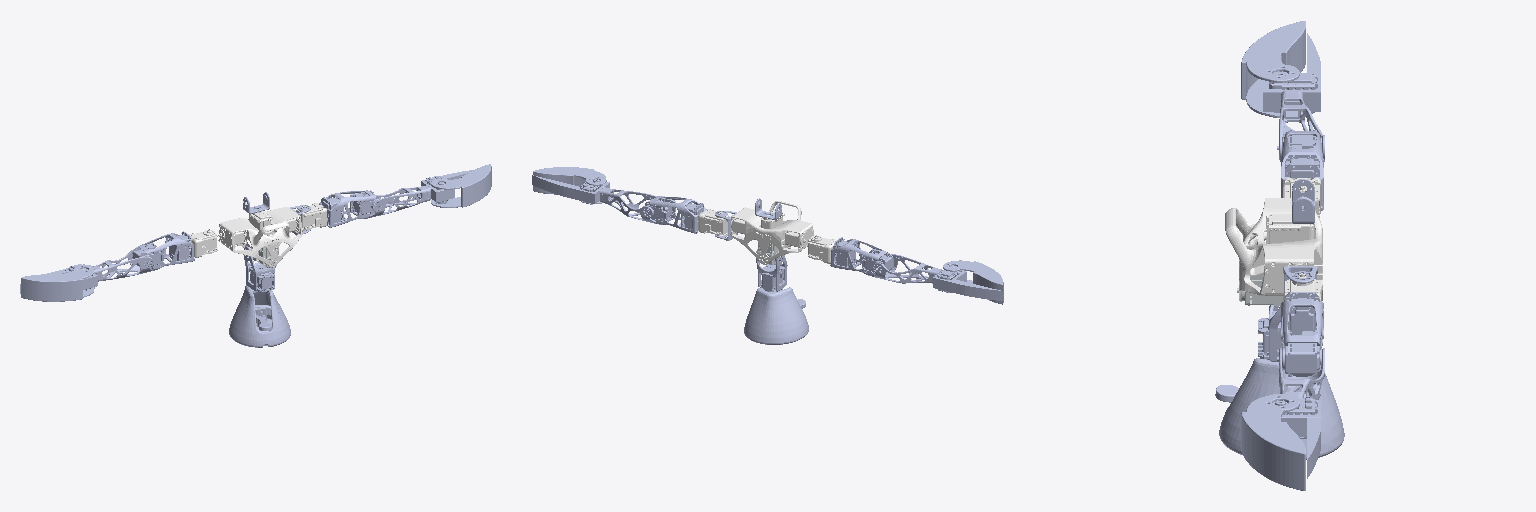
robot.urdf — Poppy_torso_v2:
<robot
  name="Poppy_torso_v2">
  <link
    name="base_link">
    <inertial>
      <origin
        xyz="-0.004153333342564 -0.0118223612045941 -0.069837604514651"
        rpy="0 0 0" />
      <mass
        value="0.319734241188127" />
      <inertia
        ixx="0.000472188921025833"
        ixy="-7.51858863028018E-06"
        ixz="-7.66483860109709E-06"
        iyy="0.000453497282460361"
        iyz="-2.18210648324942E-05"
        izz="0.000518438259894843" />
    </inertial>
    <visual>
      <origin
        xyz="0 0 0"
        rpy="0 0 0" />
      <geometry>
        <mesh
          filename="package://Poppy_torso_v2/meshes/base_link.STL" />
      </geometry>
      <material
        name="">
        <color
          rgba="0.796078431372549 0.823529411764706 0.937254901960784 1" />
      </material>
    </visual>
    <collision>
      <origin
        xyz="0 0 0"
        rpy="0 0 0" />
      <geometry>
        <mesh
          filename="package://Poppy_torso_v2/meshes/base_link.STL" />
      </geometry>
    </collision>
  </link>
  <link
    name="spine">
    <inertial>
      <origin
        xyz="1.33107737011507E-07 -0.00954289245626076 0.0259448296105954"
        rpy="0 0 0" />
      <mass
        value="0.0650979368583488" />
      <inertia
        ixx="3.09227832620665E-05"
        ixy="-2.41559572675692E-10"
        ixz="-1.06973937949386E-09"
        iyy="2.88207988705997E-05"
        iyz="-2.03180935722785E-06"
        izz="2.1564188430525E-05" />
    </inertial>
    <visual>
      <origin
        xyz="0 0 0"
        rpy="0 0 0" />
      <geometry>
        <mesh
          filename="package://Poppy_torso_v2/meshes/spine.STL" />
      </geometry>
      <material
        name="">
        <color
          rgba="0.792156862745098 0.819607843137255 0.933333333333333 1" />
      </material>
    </visual>
    <collision>
      <origin
        xyz="0 0 0"
        rpy="0 0 0" />
      <geometry>
        <mesh
          filename="package://Poppy_torso_v2/meshes/spine.STL" />
      </geometry>
    </collision>
  </link>
  <joint
    name="base_joint_self_defined"
    type="revolute">
    <origin
      xyz="0 0 0"
      rpy="-1.8864E-16 -3.0815E-33 0" />
    <parent
      link="base_link" />
    <child
      link="spine" />
    <axis
      xyz="0 0 1" />
    <limit
      effort="0"
      velocity="0" />
  </joint>
  <link
    name="chest_side">
    <inertial>
      <origin
        xyz="-0.0147496860009198 -0.00970735598527694 -0.000137030837537916"
        rpy="0 0 0" />
      <mass
        value="0.11037279418612" />
      <inertia
        ixx="3.01349430766385E-05"
        ixy="-2.77912007436759E-06"
        ixz="2.2308660633411E-07"
        iyy="6.43364191610779E-05"
        iyz="-6.5673389514138E-08"
        izz="7.03000768716146E-05" />
    </inertial>
    <visual>
      <origin
        xyz="0 0 0"
        rpy="0 0 0" />
      <geometry>
        <mesh
          filename="package://Poppy_torso_v2/meshes/chest_side.STL" />
      </geometry>
      <material
        name="">
        <color
          rgba="0.890196078431373 0.913725490196078 0.929411764705882 1" />
      </material>
    </visual>
    <collision>
      <origin
        xyz="0 0 0"
        rpy="0 0 0" />
      <geometry>
        <mesh
          filename="package://Poppy_torso_v2/meshes/chest_side.STL" />
      </geometry>
    </collision>
  </link>
  <joint
    name="chest_side_joint"
    type="revolute">
    <origin
      xyz="0 0.00280000000000003 0.0745"
      rpy="-1.5707963267949 -1.88644366411706E-16 1.5707963267949" />
    <parent
      link="spine" />
    <child
      link="chest_side" />
    <axis
      xyz="0 0 1" />
  </joint>
  <link
    name="chest_front">
    <inertial>
      <origin
        xyz="0.0516284389564188 -1.56640966283007E-06 -0.0120687564654546"
        rpy="0 0 0" />
      <mass
        value="0.212413185651431" />
      <inertia
        ixx="0.000548350920248017"
        ixy="2.65400855333155E-08"
        ixz="-1.76102337332438E-06"
        iyy="0.000152789180532853"
        iyz="-2.66047588298665E-08"
        izz="0.000486323401788313" />
    </inertial>
    <visual>
      <origin
        xyz="0 0 0"
        rpy="0 0 0" />
      <geometry>
        <mesh
          filename="package://Poppy_torso_v2/meshes/chest_front.STL" />
      </geometry>
      <material
        name="">
        <color
          rgba="1 1 1 0.32" />
      </material>
    </visual>
    <collision>
      <origin
        xyz="0 0 0"
        rpy="0 0 0" />
      <geometry>
        <mesh
          filename="package://Poppy_torso_v2/meshes/chest_front.STL" />
      </geometry>
    </collision>
  </link>
  <joint
    name="chest_front_joint"
    type="revolute">
    <origin
      xyz="0 0 0"
      rpy="-1.5708 2.7756E-16 -1.5708" />
    <parent
      link="chest_side" />
    <child
      link="chest_front" />
    <axis
      xyz="0 0 1" />
    <limit
      effort="0"
      velocity="0" />
  </joint>
  <link
    name="left_shoulder">
    <inertial>
      <origin
        xyz="-0.00915941514906743 -0.00181696224583762 0.00905845964868317"
        rpy="0 0 0" />
      <mass
        value="0.00964530467137537" />
      <inertia
        ixx="2.10531319593993E-06"
        ixy="1.1061564236355E-08"
        ixz="-3.39450830845507E-08"
        iyy="4.0655689552971E-06"
        iyz="-5.44235701960333E-08"
        izz="3.88159030402693E-06" />
    </inertial>
    <visual>
      <origin
        xyz="0 0 0"
        rpy="0 0 0" />
      <geometry>
        <mesh
          filename="package://Poppy_torso_v2/meshes/left_shoulder.STL" />
      </geometry>
      <material
        name="">
        <color
          rgba="0.796078431372549 0.823529411764706 0.937254901960784 1" />
      </material>
    </visual>
    <collision>
      <origin
        xyz="0 0 0"
        rpy="0 0 0" />
      <geometry>
        <mesh
          filename="package://Poppy_torso_v2/meshes/left_shoulder.STL" />
      </geometry>
    </collision>
  </link>
  <joint
    name="left_shoulder_joint"
    type="revolute">
    <origin
      xyz="0.0499999999999999 -0.0785 0.00400000000000005"
      rpy="1.5707963267949 4.92661467177413E-16 -2.77555756156289E-16" />
    <parent
      link="chest_front" />
    <child
      link="left_shoulder" />
    <axis
      xyz="0 0 1" />
  </joint>
  <link
    name="left_shoulder2">
    <inertial>
      <origin
        xyz="-5.12916590637846E-07 0.013997092641807 -0.00901440721895366"
        rpy="0 0 0" />
      <mass
        value="0.0560816261526276" />
      <inertia
        ixx="2.00926661196522E-05"
        ixy="1.56156233552396E-10"
        ixz="-1.15054193426659E-09"
        iyy="1.15236600129741E-05"
        iyz="3.10765359223317E-07"
        izz="1.69300488718864E-05" />
    </inertial>
    <visual>
      <origin
        xyz="0 0 0"
        rpy="0 0 0" />
      <geometry>
        <mesh
          filename="package://Poppy_torso_v2/meshes/left_shoulder2.STL" />
      </geometry>
      <material
        name="">
        <color
          rgba="1 1 1 0.32" />
      </material>
    </visual>
    <collision>
      <origin
        xyz="0 0 0"
        rpy="0 0 0" />
      <geometry>
        <mesh
          filename="package://Poppy_torso_v2/meshes/left_shoulder2.STL" />
      </geometry>
    </collision>
  </link>
  <joint
    name="left_shoulder2_joint"
    type="revolute">
    <origin
      xyz="0 0 0.027"
      rpy="1.5707963267949 -1.66533453693773E-16 1.5707963267949" />
    <parent
      link="left_shoulder" />
    <child
      link="left_shoulder2" />
    <axis
      xyz="0 0 1" />
  </joint>
  <link
    name="left_elbow">
    <inertial>
      <origin
        xyz="0.000134407661343705 -0.010734205757447 0.0580980424897709"
        rpy="0 0 0" />
      <mass
        value="0.112675711717156" />
      <inertia
        ixx="0.000184799927868789"
        ixy="-1.14534033979223E-08"
        ixz="-5.18008257730134E-07"
        iyy="0.000181143017641689"
        iyz="-2.68067658529517E-06"
        izz="3.1435947185032E-05" />
    </inertial>
    <visual>
      <origin
        xyz="0 0 0"
        rpy="0 0 0" />
      <geometry>
        <mesh
          filename="package://Poppy_torso_v2/meshes/left_elbow.STL" />
      </geometry>
      <material
        name="">
        <color
          rgba="0.792156862745098 0.819607843137255 0.933333333333333 1" />
      </material>
    </visual>
    <collision>
      <origin
        xyz="0 0 0"
        rpy="0 0 0" />
      <geometry>
        <mesh
          filename="package://Poppy_torso_v2/meshes/left_elbow.STL" />
      </geometry>
    </collision>
  </link>
  <joint
    name="left_elbow_joint"
    type="revolute">
    <origin
      xyz="0 0.0426 -0.0185"
      rpy="-1.5707963267949 -2.25514051876985E-16 0" />
    <parent
      link="left_shoulder2" />
    <child
      link="left_elbow" />
    <axis
      xyz="0 0 1" />
  </joint>
  <link
    name="left_elbow2">
    <inertial>
      <origin
        xyz="-0.00473150125050942 -0.134709050839494 -0.00503103911482915"
        rpy="0 0 0" />
      <mass
        value="0.124627257833673" />
      <inertia
        ixx="0.000397679948700664"
        ixy="1.66342227382363E-05"
        ixz="1.34262232458899E-06"
        iyy="4.52674117747585E-05"
        iyz="1.86836280303594E-05"
        izz="0.000374943341565953" />
    </inertial>
    <visual>
      <origin
        xyz="0 0 0"
        rpy="0 0 0" />
      <geometry>
        <mesh
          filename="package://Poppy_torso_v2/meshes/left_elbow2.STL" />
      </geometry>
      <material
        name="">
        <color
          rgba="0.796078431372549 0.823529411764706 0.937254901960784 1" />
      </material>
    </visual>
    <collision>
      <origin
        xyz="0 0 0"
        rpy="0 0 0" />
      <geometry>
        <mesh
          filename="package://Poppy_torso_v2/meshes/left_elbow2.STL" />
      </geometry>
    </collision>
  </link>
  <joint
    name="left_elbow2_joint"
    type="revolute">
    <origin
      xyz="0 -0.00999999999999998 0.1064"
      rpy="-1.5707963267949 -4.44089209850063E-16 -1.5707963267949" />
    <parent
      link="left_elbow" />
    <child
      link="left_elbow2" />
    <axis
      xyz="0 0 1" />
  </joint>
  <link
    name="left_wrist">
    <inertial>
      <origin
        xyz="0.0664996307275117 0.00468839933138934 -0.0184512352109278"
        rpy="0 0 0" />
      <mass
        value="0.0715967629177807" />
      <inertia
        ixx="4.27777177780856E-05"
        ixy="2.48625199979155E-05"
        ixz="2.75301406084933E-09"
        iyy="0.000108120781747354"
        iyz="3.93878197934243E-10"
        izz="0.000116113008697731" />
    </inertial>
    <visual>
      <origin
        xyz="0 0 0"
        rpy="0 0 0" />
      <geometry>
        <mesh
          filename="package://Poppy_torso_v2/meshes/left_wrist.STL" />
      </geometry>
      <material
        name="">
        <color
          rgba="0.796078431372549 0.823529411764706 0.937254901960784 1" />
      </material>
    </visual>
    <collision>
      <origin
        xyz="0 0 0"
        rpy="0 0 0" />
      <geometry>
        <mesh
          filename="package://Poppy_torso_v2/meshes/left_wrist.STL" />
      </geometry>
    </collision>
  </link>
  <joint
    name="left_wrist_joint"
    type="revolute">
    <origin
      xyz="0.0169413570698455 -0.141000000000007 -0.0224799225014185"
      rpy="-1.5707963267949 1.66533453693773E-16 -1.5707963267949" />
    <parent
      link="left_elbow2" />
    <child
      link="left_wrist" />
    <axis
      xyz="0 0 1" />
  </joint>
  <link
    name="left_end_effector" />
  <joint
    name="left_end_effector_joint"
    type="fixed">
    <origin
      xyz="0.0827906336786532 -0.0267299225014178 -0.0212397767436433"
      rpy="-1.5707963267949 -1.30104260698252E-18 0" />
    <parent
      link="left_wrist" />
    <child
      link="left_end_effector" />
    <axis
      xyz="0 0 0" />
  </joint>
  <link
    name="right_shoulder">
    <inertial>
      <origin
        xyz="-0.00915239215466132 -0.00181626859785421 -0.00905843310136314"
        rpy="0 0 0" />
      <mass
        value="0.00964541698737778" />
      <inertia
        ixx="2.10548662935362E-06"
        ixy="1.02029692239802E-08"
        ixz="3.35558999287888E-08"
        iyy="4.06513535627495E-06"
        iyz="5.44036257258871E-08"
        izz="3.88132818879036E-06" />
    </inertial>
    <visual>
      <origin
        xyz="0 0 0"
        rpy="0 0 0" />
      <geometry>
        <mesh
          filename="package://Poppy_torso_v2/meshes/right_shoulder.STL" />
      </geometry>
      <material
        name="">
        <color
          rgba="0.796078431372549 0.823529411764706 0.937254901960784 1" />
      </material>
    </visual>
    <collision>
      <origin
        xyz="0 0 0"
        rpy="0 0 0" />
      <geometry>
        <mesh
          filename="package://Poppy_torso_v2/meshes/right_shoulder.STL" />
      </geometry>
    </collision>
  </link>
  <joint
    name="right_shoulder_joint"
    type="revolute">
    <origin
      xyz="0.05 0.0784999999999999 0.00400000000000002"
      rpy="1.5707963267949 1.66533453693773E-16 -2.77555756156289E-16" />
    <parent
      link="chest_front" />
    <child
      link="right_shoulder" />
    <axis
      xyz="0 0 1" />
  </joint>
  <link
    name="right_shoulder2">
    <inertial>
      <origin
        xyz="5.12916757067217E-07 -0.0139970926437282 -0.0090144072179727"
        rpy="0 0 0" />
      <mass
        value="0.05608162614809" />
      <inertia
        ixx="2.0092666116493E-05"
        ixy="1.56155941850555E-10"
        ixz="1.15054204544306E-09"
        iyy="1.15236600122213E-05"
        iyz="-3.10765360659994E-07"
        izz="1.69300488694268E-05" />
    </inertial>
    <visual>
      <origin
        xyz="0 0 0"
        rpy="0 0 0" />
      <geometry>
        <mesh
          filename="package://Poppy_torso_v2/meshes/right_shoulder2.STL" />
      </geometry>
      <material
        name="">
        <color
          rgba="1 1 1 0.32" />
      </material>
    </visual>
    <collision>
      <origin
        xyz="0 0 0"
        rpy="0 0 0" />
      <geometry>
        <mesh
          filename="package://Poppy_torso_v2/meshes/right_shoulder2.STL" />
      </geometry>
    </collision>
  </link>
  <joint
    name="right_shoulder2_joint"
    type="revolute">
    <origin
      xyz="0 0 -0.027"
      rpy="1.5707963267949 5.55111512312578E-17 1.5707963267949" />
    <parent
      link="right_shoulder" />
    <child
      link="right_shoulder2" />
    <axis
      xyz="0 0 1" />
  </joint>
  <link
    name="right_elbow">
    <inertial>
      <origin
        xyz="0.000134050057090468 -0.0107342047568474 -0.0580980456796688"
        rpy="0 0 0" />
      <mass
        value="0.112675723709005" />
      <inertia
        ixx="0.000184799941144802"
        ixy="-1.07553437665825E-08"
        ixz="5.18086975757032E-07"
        iyy="0.000181143041569846"
        iyz="2.68068335967206E-06"
        izz="3.14359602663305E-05" />
    </inertial>
    <visual>
      <origin
        xyz="0 0 0"
        rpy="0 0 0" />
      <geometry>
        <mesh
          filename="package://Poppy_torso_v2/meshes/right_elbow.STL" />
      </geometry>
      <material
        name="">
        <color
          rgba="0.796078431372549 0.823529411764706 0.937254901960784 1" />
      </material>
    </visual>
    <collision>
      <origin
        xyz="0 0 0"
        rpy="0 0 0" />
      <geometry>
        <mesh
          filename="package://Poppy_torso_v2/meshes/right_elbow.STL" />
      </geometry>
    </collision>
  </link>
  <joint
    name="right_elbow_joint"
    type="revolute">
    <origin
      xyz="0 -0.0426 -0.0184999999999999"
      rpy="-1.5707963267949 2.22044604925031E-16 1.66533453693774E-16" />
    <parent
      link="right_shoulder2" />
    <child
      link="right_elbow" />
    <axis
      xyz="0 0 1" />
  </joint>
  <link
    name="right_elbow2">
    <inertial>
      <origin
        xyz="-0.00340868592241036 0.134711247484355 -0.00503043642723321"
        rpy="0 0 0" />
      <mass
        value="0.124625516627974" />
      <inertia
        ixx="0.000397680389475006"
        ixy="-2.12619437612094E-05"
        ixz="7.26333594597061E-07"
        iyy="4.57040928235963E-05"
        iyz="-1.86823324512563E-05"
        izz="0.000375377777767463" />
    </inertial>
    <visual>
      <origin
        xyz="0 0 0"
        rpy="0 0 0" />
      <geometry>
        <mesh
          filename="package://Poppy_torso_v2/meshes/right_elbow2.STL" />
      </geometry>
      <material
        name="">
        <color
          rgba="0.796078431372549 0.823529411764706 0.937254901960784 1" />
      </material>
    </visual>
    <collision>
      <origin
        xyz="0 0 0"
        rpy="0 0 0" />
      <geometry>
        <mesh
          filename="package://Poppy_torso_v2/meshes/right_elbow2.STL" />
      </geometry>
    </collision>
  </link>
  <joint
    name="right_elbow2_joint"
    type="revolute">
    <origin
      xyz="0 -0.00999999999999998 -0.1064"
      rpy="-1.5707963267949 1.66533453693773E-16 -1.5707963267949" />
    <parent
      link="right_elbow" />
    <child
      link="right_elbow2" />
    <axis
      xyz="0 0 1" />
  </joint>
  <link
    name="right_wrist">
    <inertial>
      <origin
        xyz="-0.0664993910672015 0.0046883732150699 0.0184512375766644"
        rpy="0 0 0" />
      <mass
        value="0.071596377097844" />
      <inertia
        ixx="4.27777222252423E-05"
        ixy="-2.48617309773565E-05"
        ixz="2.79460733307498E-09"
        iyy="0.000108118899559131"
        iyz="-2.93584200772409E-10"
        izz="0.00011611121258381" />
    </inertial>
    <visual>
      <origin
        xyz="0 0 0"
        rpy="0 0 0" />
      <geometry>
        <mesh
          filename="package://Poppy_torso_v2/meshes/right_wrist.STL" />
      </geometry>
      <material
        name="">
        <color
          rgba="0.796078431372549 0.823529411764706 0.937254901960784 1" />
      </material>
    </visual>
    <collision>
      <origin
        xyz="0 0 0"
        rpy="0 0 0" />
      <geometry>
        <mesh
          filename="package://Poppy_torso_v2/meshes/right_wrist.STL" />
      </geometry>
    </collision>
  </link>
  <joint
    name="right_wrist_joint"
    type="revolute">
    <origin
      xyz="-0.0224386429301544 0.141000000000007 -0.0224799225014181"
      rpy="-1.5707963267949 -2.77555756156289E-16 -1.5707963267949" />
    <parent
      link="right_elbow2" />
    <child
      link="right_wrist" />
    <axis
      xyz="0 0 1" />
  </joint>
  <link
    name="right_end_effector" />
  <joint
    name="right_end_effector_joint"
    type="fixed">
    <origin
      xyz="-0.0827906336786532 -0.0267299225014179 0.0212397767436433"
      rpy="1.5707963267949 -7.11831661085039E-17 3.14159265358979" />
    <parent
      link="right_wrist" />
    <child
      link="right_end_effector" />
    <axis
      xyz="0 0 0" />
  </joint>
  <link
    name="neck">
    <inertial>
      <origin
        xyz="-0.00147486363195595 -2.29735059432568E-05 0.00934455262566064"
        rpy="0 0 0" />
      <mass
        value="0.00677087390469401" />
      <inertia
        ixx="8.34826237691459E-07"
        ixy="2.31762252256664E-10"
        ixz="1.06993581973398E-07"
        iyy="2.96143119089197E-06"
        iyz="1.78774539484968E-11"
        izz="2.68691929886332E-06" />
    </inertial>
    <visual>
      <origin
        xyz="0 0 0"
        rpy="0 0 0" />
      <geometry>
        <mesh
          filename="package://Poppy_torso_v2/meshes/neck.STL" />
      </geometry>
      <material
        name="">
        <color
          rgba="0.796078431372549 0.823529411764706 0.937254901960784 1" />
      </material>
    </visual>
    <collision>
      <origin
        xyz="0 0 0"
        rpy="0 0 0" />
      <geometry>
        <mesh
          filename="package://Poppy_torso_v2/meshes/neck.STL" />
      </geometry>
    </collision>
  </link>
  <joint
    name="neck_joint"
    type="revolute">
    <origin
      xyz="0.0839399999999999 0 0.004979922501418"
      rpy="-1.5707963267949 2.22044604925031E-16 -1.5707963267949" />
    <parent
      link="chest_front" />
    <child
      link="neck" />
    <axis
      xyz="0 0 1" />
  </joint>
  <link
    name="head">
    <inertial>
      <origin
        xyz="-0.0235262061888786 -0.0273909853664452 -6.67430958651433E-05"
        rpy="0 0 0" />
      <mass
        value="0.216375491541073" />
      <inertia
        ixx="0.000453887062747377"
        ixy="-2.25722146081784E-05"
        ixz="-2.47613048704635E-06"
        iyy="0.000473881282434402"
        iyz="-3.20082275524551E-07"
        izz="0.000401890028179119" />
    </inertial>
    <visual>
      <origin
        xyz="0 0 0"
        rpy="0 0 0" />
      <geometry>
        <mesh
          filename="package://Poppy_torso_v2/meshes/head.STL" />
      </geometry>
      <material
        name="">
        <color
          rgba="0.796078431372549 0.823529411764706 0.937254901960784 1" />
      </material>
    </visual>
    <collision>
      <origin
        xyz="0 0 0"
        rpy="0 0 0" />
      <geometry>
        <mesh
          filename="package://Poppy_torso_v2/meshes/head.STL" />
      </geometry>
    </collision>
  </link>
  <joint
    name="head_link"
    type="revolute">
    <origin
      xyz="0 -2.00774985820041E-05 0.02006"
      rpy="-1.5707963267949 3.35406100611928E-16 -1.5707963267949" />
    <parent
      link="neck" />
    <child
      link="head" />
    <axis
      xyz="0 0 1" />
  </joint>
</robot>

--- Render facts (derived) ---
3 views of the same robot in one strip: view 1: azimuth 30°, elevation 25°; view 2: azimuth 150°, elevation 25°; view 3: azimuth 270°, elevation 25° (orthographic).
Model Poppy_torso_v2 with 18 links and 17 joints (15 revolute, 2 fixed), rooted at base_link, posed all joints at 0.
Links seen in each view (by area): view 1: chest_front, base_link, left_wrist, right_elbow2, right_wrist, right_elbow, left_elbow, left_elbow2, spine, left_shoulder2, right_shoulder2; view 2: base_link, chest_front, left_elbow2, right_elbow2, left_elbow, right_elbow, right_wrist, left_wrist, spine, right_shoulder2, left_shoulder2; view 3: chest_front, right_wrist, base_link, left_wrist, right_elbow, left_elbow2, right_elbow2, left_elbow, spine, neck, chest_side, right_shoulder.
Boxes of the visible links, x1,y1,x2,y2 form: chest_front: (218,207,302,267); base_link: (229,285,290,347); left_wrist: (21,264,94,301); right_elbow2: (369,170,472,217); right_wrist: (431,164,491,207); right_elbow: (319,190,380,227); left_elbow: (132,231,194,270); left_elbow2: (20,249,152,293); spine: (244,246,275,291); left_shoulder2: (189,229,217,257); right_shoulder2: (296,203,326,230); base_link: (744,287,808,344); chest_front: (730,201,813,264); left_elbow2: (873,254,1002,300); right_elbow2: (532,175,656,223); left_elbow: (830,237,893,276); right_elbow: (645,196,705,233); right_wrist: (533,167,606,203); left_wrist: (943,260,1003,304); spine: (756,249,787,291); right_shoulder2: (698,209,729,235); left_shoulder2: (808,235,836,263); chest_front: (1225,198,1322,301); right_wrist: (1241,394,1305,490); base_link: (1215,358,1344,459); left_wrist: (1241,21,1305,117); right_elbow: (1277,292,1323,376); left_elbow2: (1263,33,1324,161); right_elbow2: (1272,348,1324,478); left_elbow: (1277,130,1323,210); spine: (1258,305,1282,361); neck: (1292,179,1314,223); chest_side: (1237,273,1282,305); right_shoulder: (1283,266,1317,292).
Size in the robot's own frame: 1.04 by 0.1321 by 0.287 metres.
14 mesh visuals loaded from 16 distinct referenced files (14 binary STL); not drawn: 2 (reference not matched to a file when rendering).